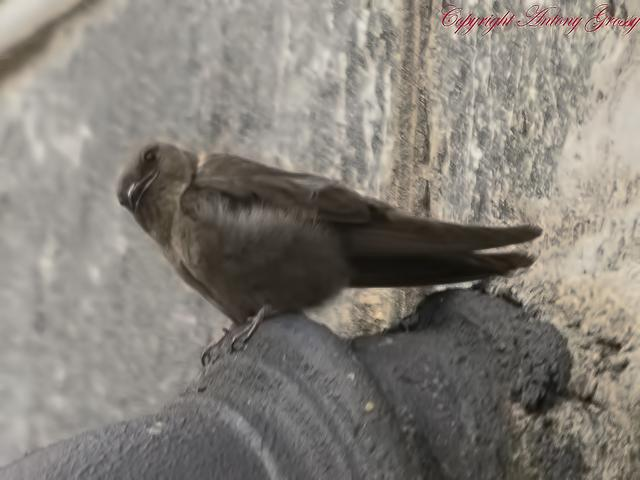bird: (95, 121, 539, 389)
